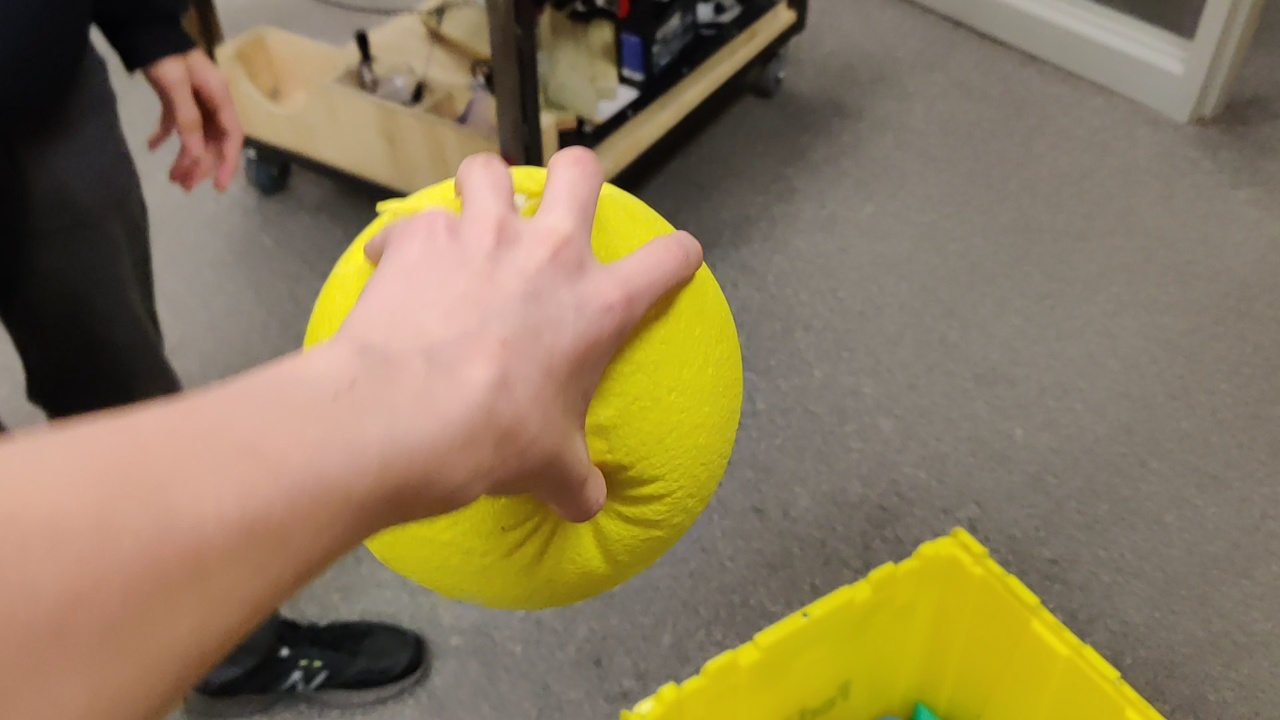Ball: (322, 246, 746, 599)
